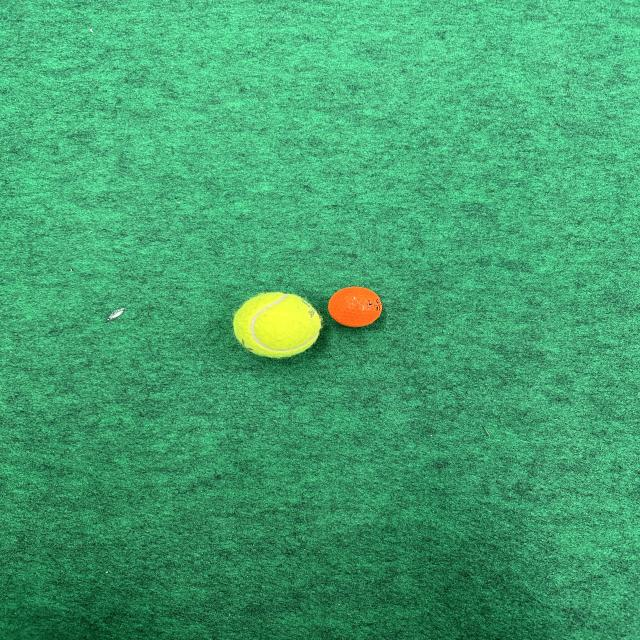ball: (326, 285, 384, 328)
